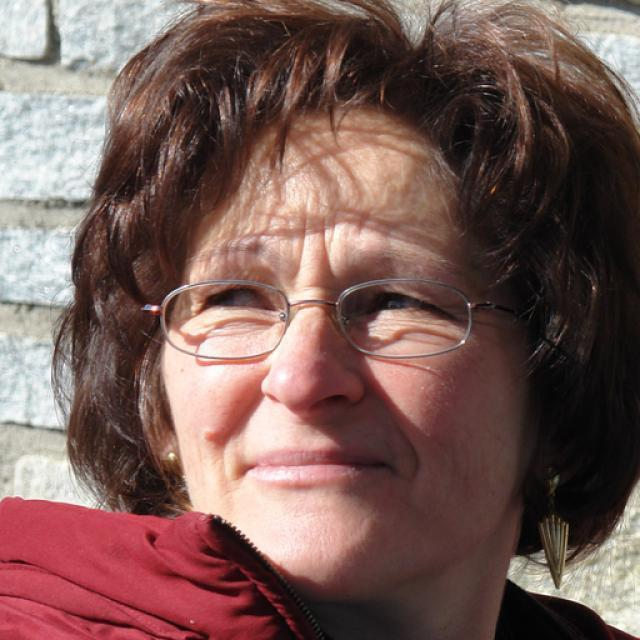0_rostro_limpio: (162, 21, 640, 598)
